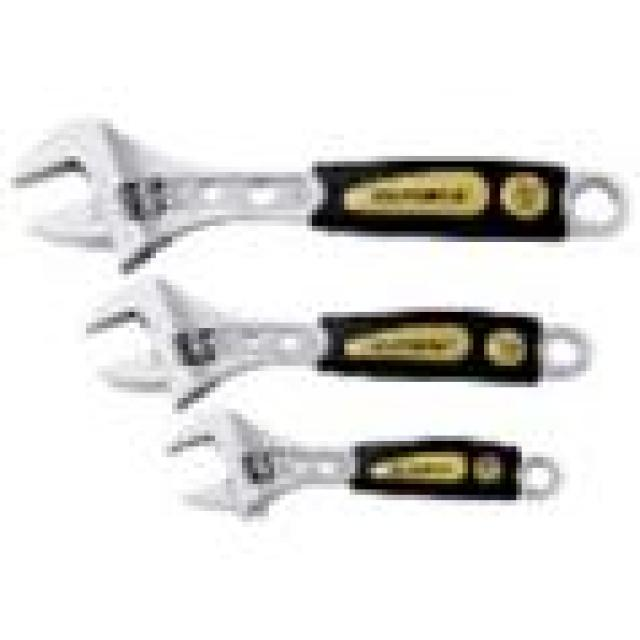wrench: (6, 60, 640, 300), (75, 271, 635, 398), (142, 404, 632, 524)
